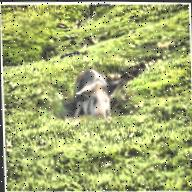boar: (71, 66, 124, 121)
